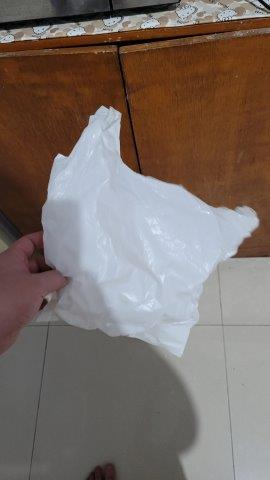plastik: (40, 108, 258, 352)
